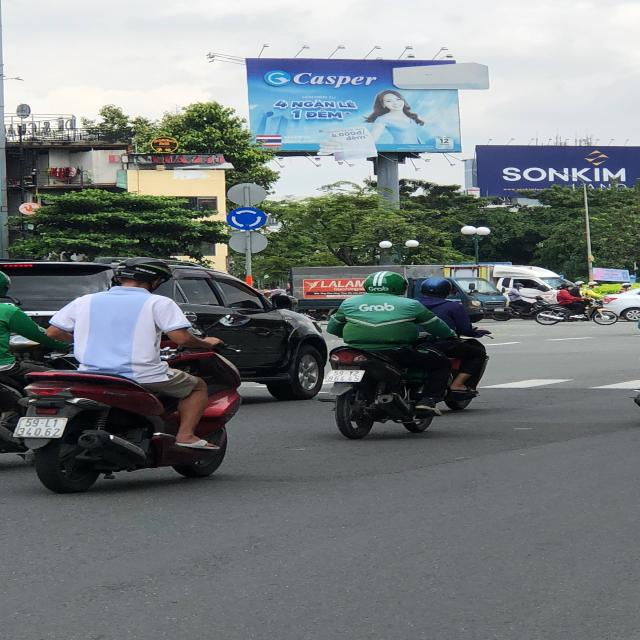Bien bao noi giao nhau chay theo vong xuyen: (226, 205, 270, 231)
